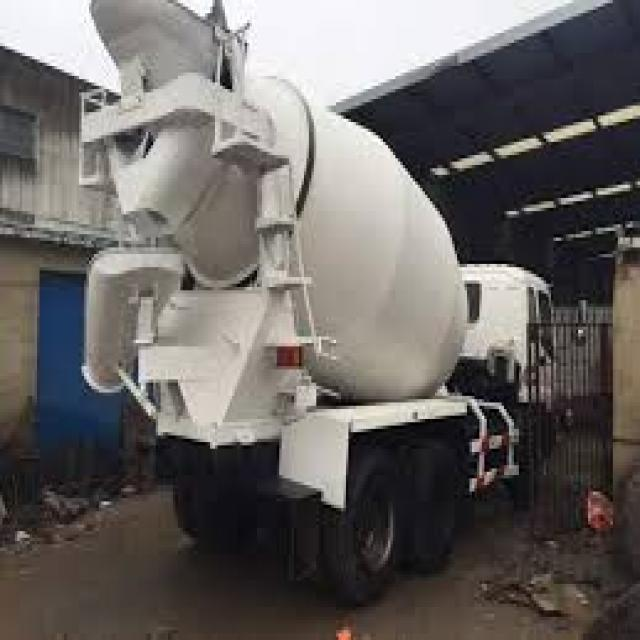Mixer Truck: (76, 0, 560, 611)
